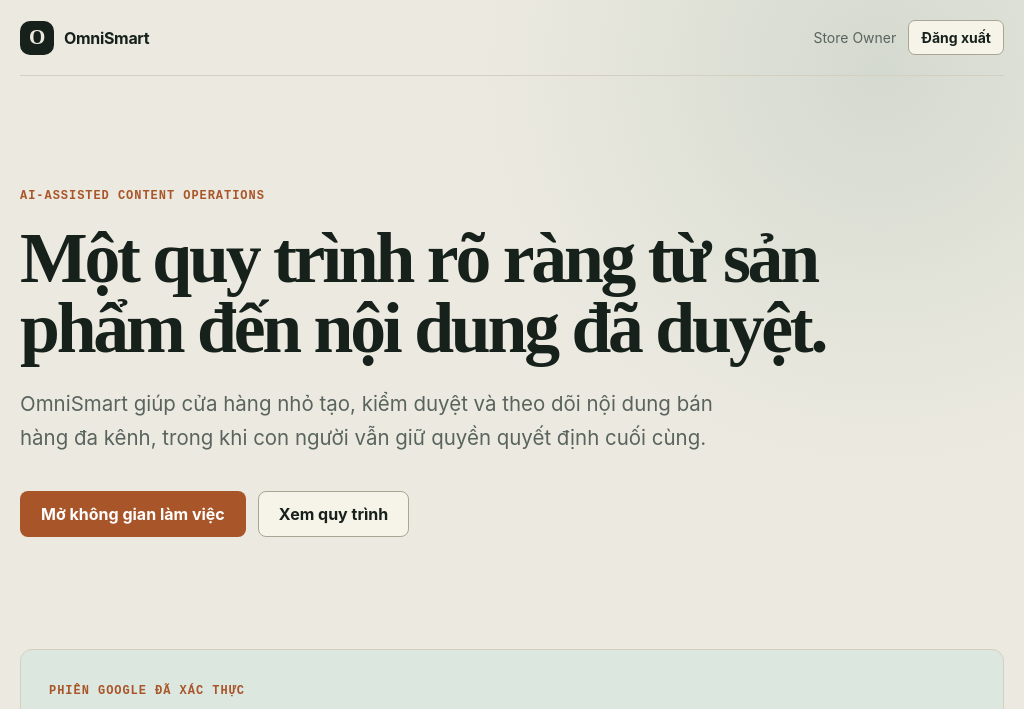
OmniSmart authentication experience › gets a CSRF token before logging out
This screenshot has width=1024, height=709.
Click the button "Đăng xuất" at (956,38), box top-left (908, 20), bottom-right (1004, 55)
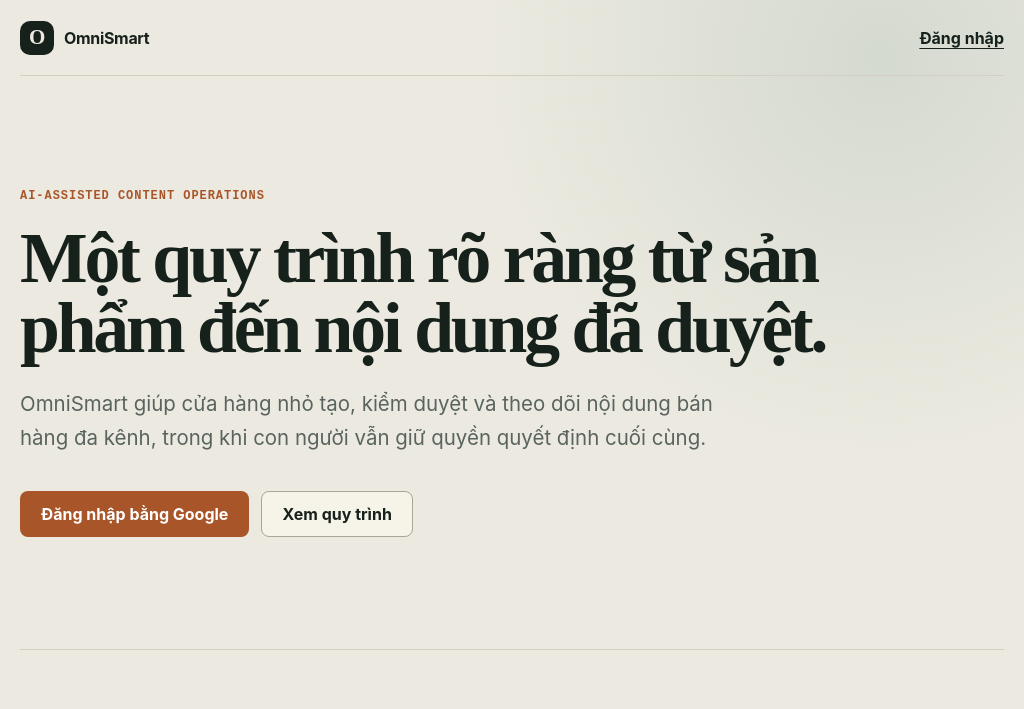
Expected: the link "Đăng nhập bằng Google" is shown, top-left (20, 491), bottom-right (249, 537)
